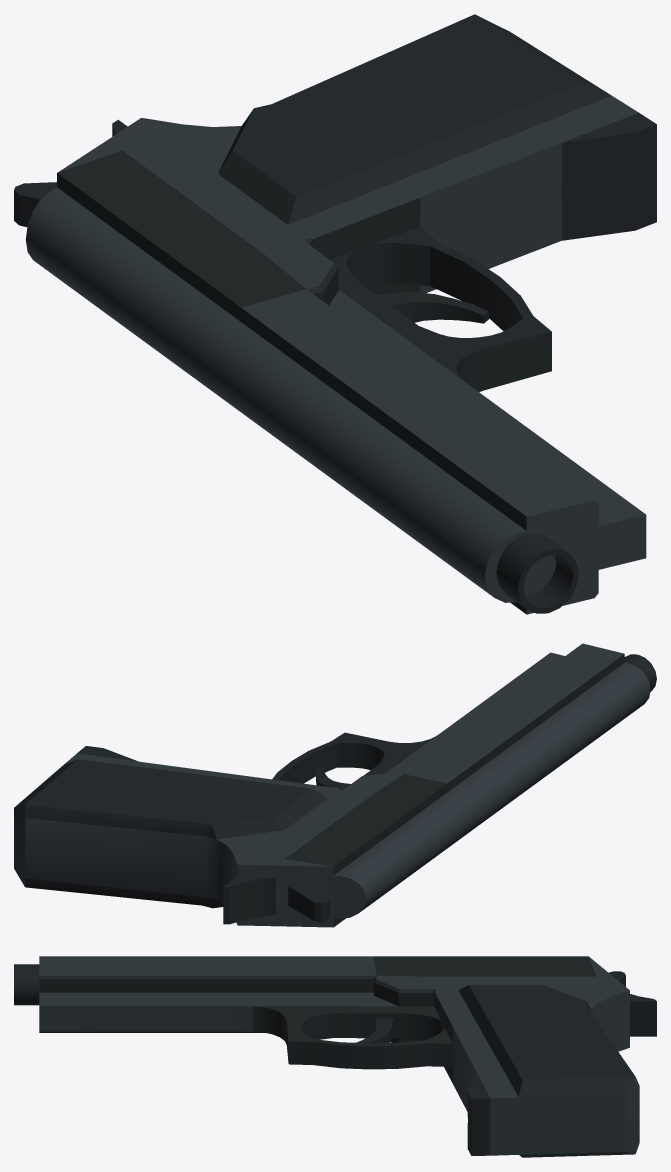
The model's file is Pistol.fbx.
3 renders of one model, top to bottom at view 1: azimuth 30°, elevation 25°; view 2: azimuth 150°, elevation 25°; view 3: azimuth 270°, elevation 25°, orthographic. The views are drawn at different scales.
Parts seen in each view (by area): view 1: MSR; view 2: MSR; view 3: MSR.
Part boxes in pixels (x1,y1,x2,y2): MSR: [14, 14, 656, 614]; MSR: [14, 643, 656, 927]; MSR: [14, 956, 656, 1157].
Bounding box in the file's own units: 0.9707 × 1.71 × 0.228.
